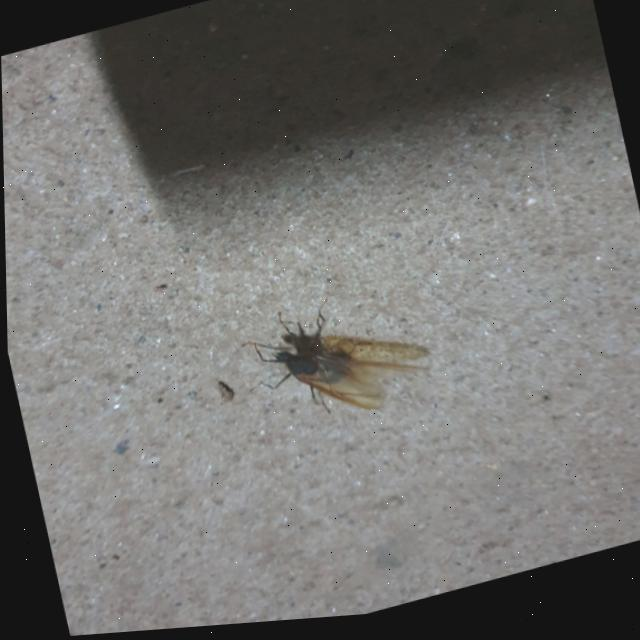Alive-Male-Alate: (246, 281, 435, 443)
